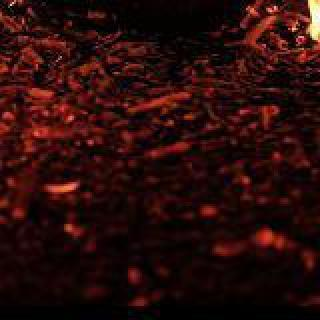fire: (0, 0, 318, 68)
